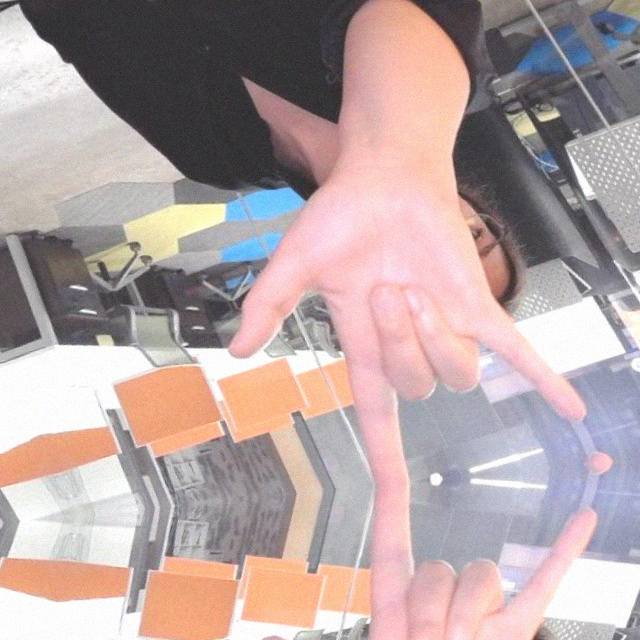Paper: (37, 524, 159, 640)
